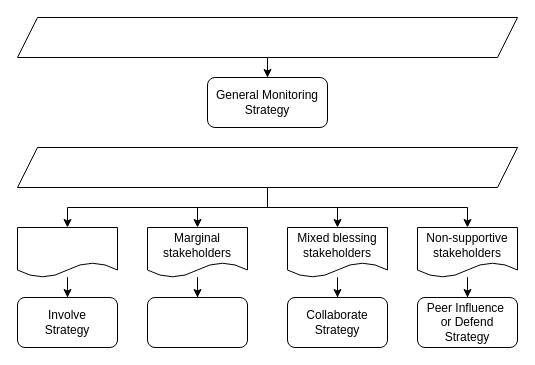
Image size: 535x365. Some labels were removed from this diagram. The centre of each missing label's shape, as x and y in pixels:
"Monitor (closely) Strategy" goes at (x=197, y=322).
"Overarching stakeholder management strategy" goes at (x=267, y=37).
"Specific stakeholder management strategies" goes at (x=267, y=167).
"Supportive stakeholders" goes at (x=67, y=252).
